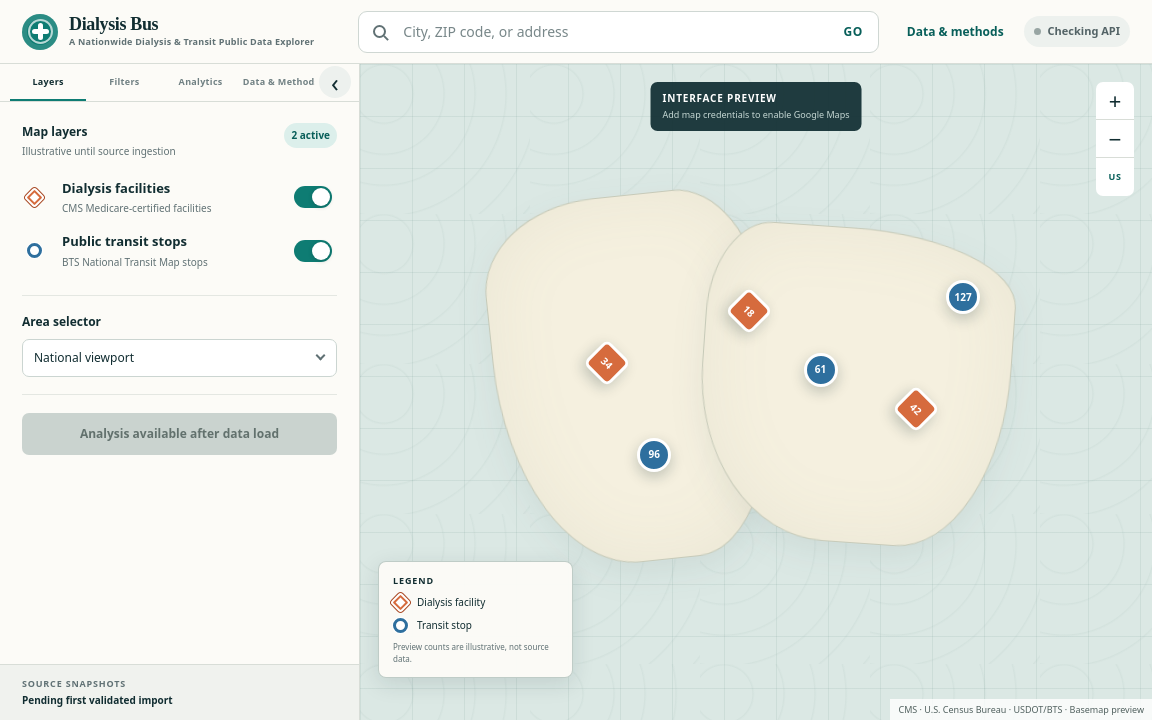
Test: ExplorerShell › surfaces the methods limitation in a keyboard-accessible tab
What coordinates should you click on to do the following:
click the tab "Data & Methods"
I would click on:
 (277, 82)
Its box is 239,64 -> 315,100.
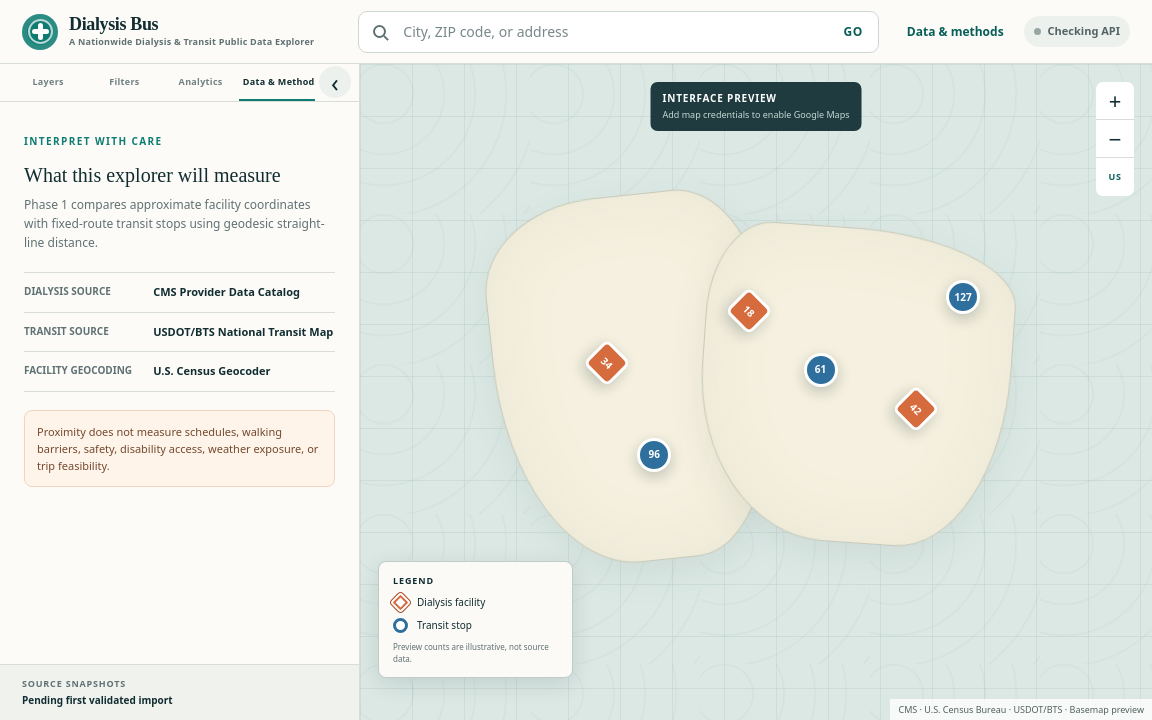
expect the text "Proximity does not measure schedules" is shown: met, box 37,424 -> 318,473
